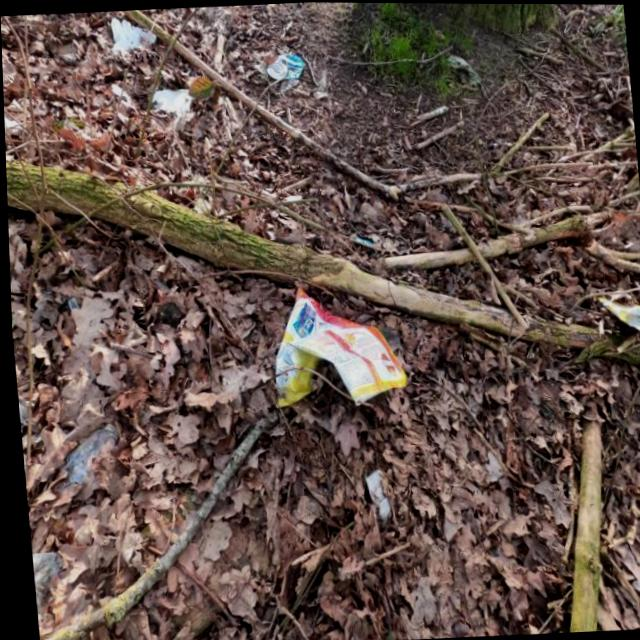Can-Metal: (264, 51, 307, 81)
Paper: (108, 14, 158, 54), (150, 87, 197, 120)
Plastic: (263, 278, 409, 434), (592, 291, 640, 347)
